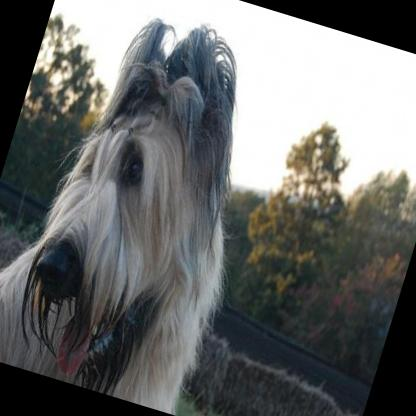briard: (0, 0, 297, 416)
